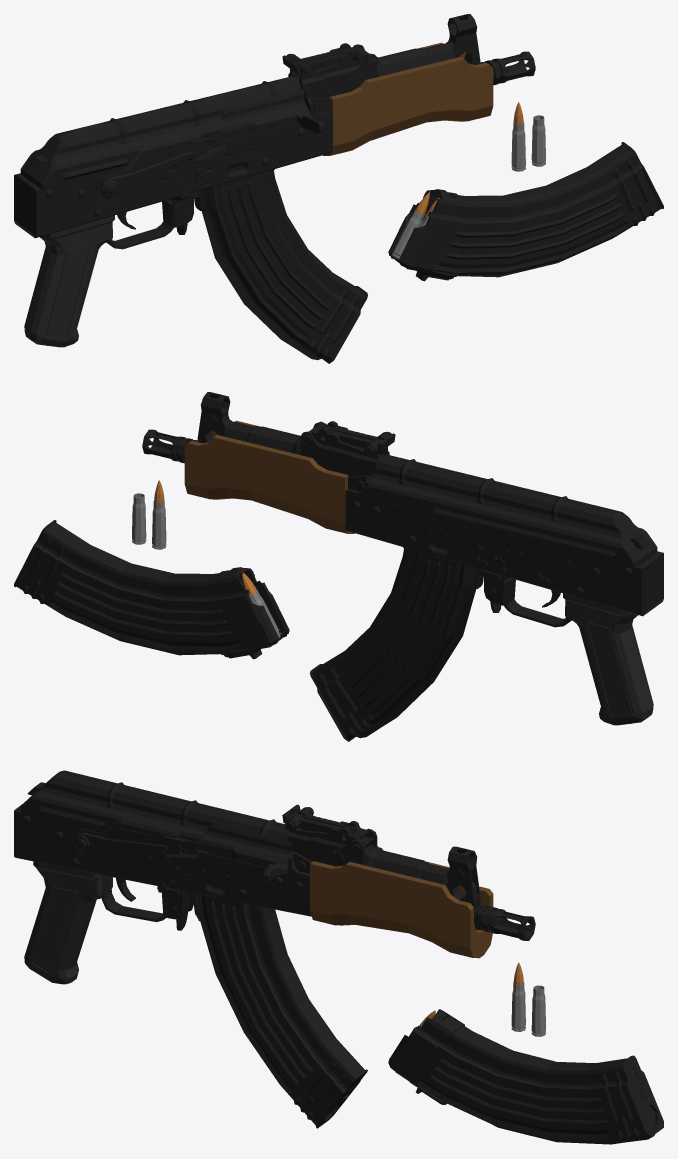
Rendered from mini_draco_ak.glb.
The picture shows the model from 3 angles, top to bottom: view 1: azimuth 30°, elevation 25°; view 2: azimuth 150°, elevation 25°; view 3: azimuth 330°, elevation 25°; orthographic projection.
Parts seen in each view (by area): view 1: ak 30rnd steel mag_13, draco receiver_2, ak 30rnd empty steel mag_12, draco dust cover_6, minidraco handguard_15, draco pistol grip_3, minidraco bolt carrier_7, draco selector_1, minidraco barrel_8, draco flash hider_14, minidraco gas tube_5, 7.62x39_10 (+1 smaller); view 2: ak 30rnd steel mag_13, draco receiver_2, ak 30rnd empty steel mag_12, draco dust cover_6, minidraco handguard_15, draco pistol grip_3, minidraco barrel_8, draco flash hider_14, minidraco gas tube_5, 7.62x39_10, Object_24; view 3: ak 30rnd steel mag_13, ak 30rnd empty steel mag_12, draco receiver_2, minidraco handguard_15, draco dust cover_6, draco pistol grip_3, minidraco bolt carrier_7, draco selector_1, minidraco barrel_8, draco flash hider_14, minidraco gas tube_5, 7.62x39_10 (+1 smaller).
Boxes of the visible parts, <box> form: ak 30rnd steel mag_13: <box>388,142,663,281</box>; draco receiver_2: <box>14,43,378,249</box>; ak 30rnd empty steel mag_12: <box>194,169,367,363</box>; draco dust cover_6: <box>20,76,301,189</box>; minidraco handguard_15: <box>323,42,493,155</box>; draco pistol grip_3: <box>24,215,114,347</box>; minidraco bolt carrier_7: <box>201,90,324,139</box>; draco selector_1: <box>96,133,227,199</box>; minidraco barrel_8: <box>419,14,480,64</box>; draco flash hider_14: <box>480,51,535,85</box>; minidraco gas tube_5: <box>377,48,426,76</box>; 7.62x39_10: <box>511,102,525,171</box>; ak 30rnd steel mag_13: <box>14,520,289,659</box>; draco receiver_2: <box>300,421,663,627</box>; ak 30rnd empty steel mag_12: <box>310,547,483,741</box>; draco dust cover_6: <box>367,454,657,567</box>; minidraco handguard_15: <box>184,420,354,533</box>; draco pistol grip_3: <box>563,593,653,725</box>; minidraco barrel_8: <box>197,392,258,442</box>; draco flash hider_14: <box>142,429,197,463</box>; minidraco gas tube_5: <box>251,426,300,454</box>; 7.62x39_10: <box>152,480,166,549</box>; Object_24: <box>132,493,146,544</box>; ak 30rnd steel mag_13: <box>388,1009,663,1144</box>; ak 30rnd empty steel mag_12: <box>192,893,367,1128</box>; draco receiver_2: <box>14,782,377,921</box>; minidraco handguard_15: <box>310,861,493,958</box>; draco dust cover_6: <box>20,770,302,841</box>; draco pistol grip_3: <box>24,861,112,984</box>; minidraco bolt carrier_7: <box>182,824,291,883</box>; draco selector_1: <box>73,825,198,859</box>; minidraco barrel_8: <box>413,846,480,930</box>; draco flash hider_14: <box>474,905,535,940</box>; minidraco gas tube_5: <box>362,844,424,876</box>; 7.62x39_10: <box>511,962,525,1031</box>.
Size of the model in its own units: 5.54 by 2.59 by 0.6145.
